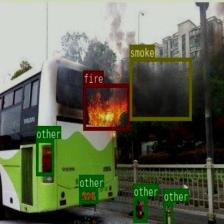fire: (83, 83, 129, 129)
smoke: (129, 57, 191, 120)
